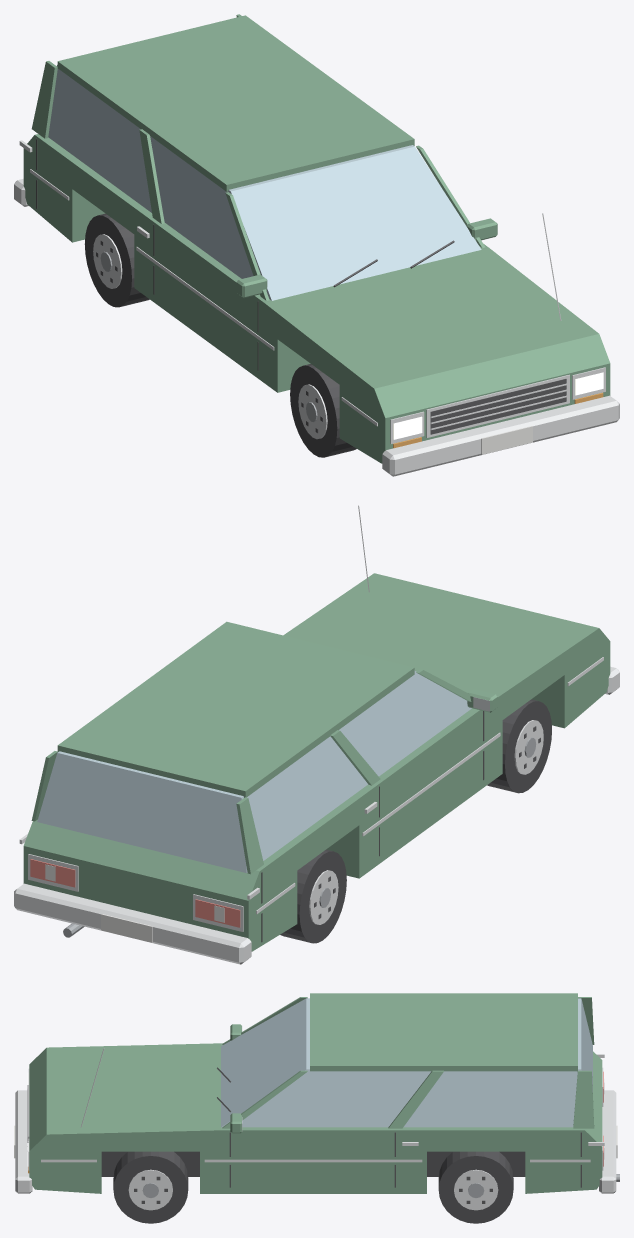
File: car_wagon_g.glb
3 views of the same model, one above another, from view 1: azimuth 30°, elevation 25°; view 2: azimuth 150°, elevation 25°; view 3: azimuth 270°, elevation 25° (orthographic). The views are drawn at different scales.
Visible parts, largest first — view 1: car_wagon_g_car_g, car_wagon_g_glass, car_wagon_g_chrome, car_wagon_g_rubber, car_wagon_g_dark, car_wagon_g_lamp_glass, car_wagon_g_paint_w; view 2: car_wagon_g_car_g, car_wagon_g_glass, car_wagon_g_chrome, car_wagon_g_rubber, car_wagon_g_neon_r, car_wagon_g_paint_w; view 3: car_wagon_g_car_g, car_wagon_g_glass, car_wagon_g_rubber, car_wagon_g_chrome, car_wagon_g_dark, car_wagon_g_steel.
Boxes of the visible parts, box(x1,y1,x2,y2) form: car_wagon_g_car_g: box(23, 14, 610, 463); car_wagon_g_glass: box(48, 64, 481, 300); car_wagon_g_chrome: box(14, 140, 619, 476); car_wagon_g_rubber: box(84, 213, 356, 457); car_wagon_g_dark: box(36, 138, 566, 434); car_wagon_g_lamp_glass: box(393, 372, 603, 439); car_wagon_g_paint_w: box(481, 426, 532, 454); car_wagon_g_car_g: box(23, 573, 610, 951); car_wagon_g_glass: box(37, 671, 471, 872); car_wagon_g_chrome: box(14, 505, 619, 964); car_wagon_g_rubber: box(280, 699, 551, 943); car_wagon_g_neon_r: box(30, 859, 240, 927); car_wagon_g_paint_w: box(45, 864, 224, 942); car_wagon_g_car_g: box(29, 993, 602, 1193); car_wagon_g_glass: box(221, 998, 592, 1127); car_wagon_g_rubber: box(101, 1151, 525, 1223); car_wagon_g_chrome: box(15, 1048, 616, 1210); car_wagon_g_dark: box(27, 1067, 581, 1203); car_wagon_g_steel: box(142, 1174, 619, 1197).
Size of the model in its own units: 2 by 1.6 by 5.18.
